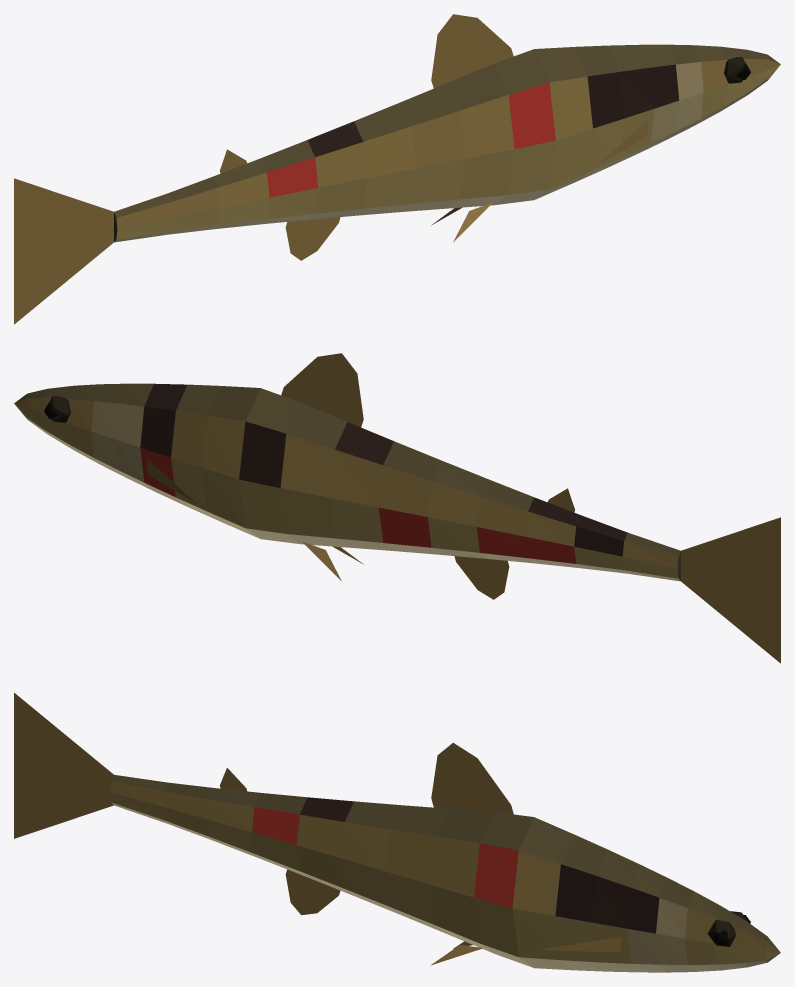
The model's file is brown-trout.glb.
3 views of the same model, one above another, from view 1: azimuth 30°, elevation 25°; view 2: azimuth 150°, elevation 25°; view 3: azimuth 330°, elevation 25° (orthographic).
Visible parts, largest first — view 1: brown-trout; view 2: brown-trout; view 3: brown-trout.
Part boxes in pixels (left/top/right/bottom): brown-trout: left=14, top=14, right=780, bottom=324; brown-trout: left=14, top=353, right=780, bottom=663; brown-trout: left=14, top=693, right=780, bottom=972.
Size of the model in its own units: 1.15 by 0.312 by 0.153.
